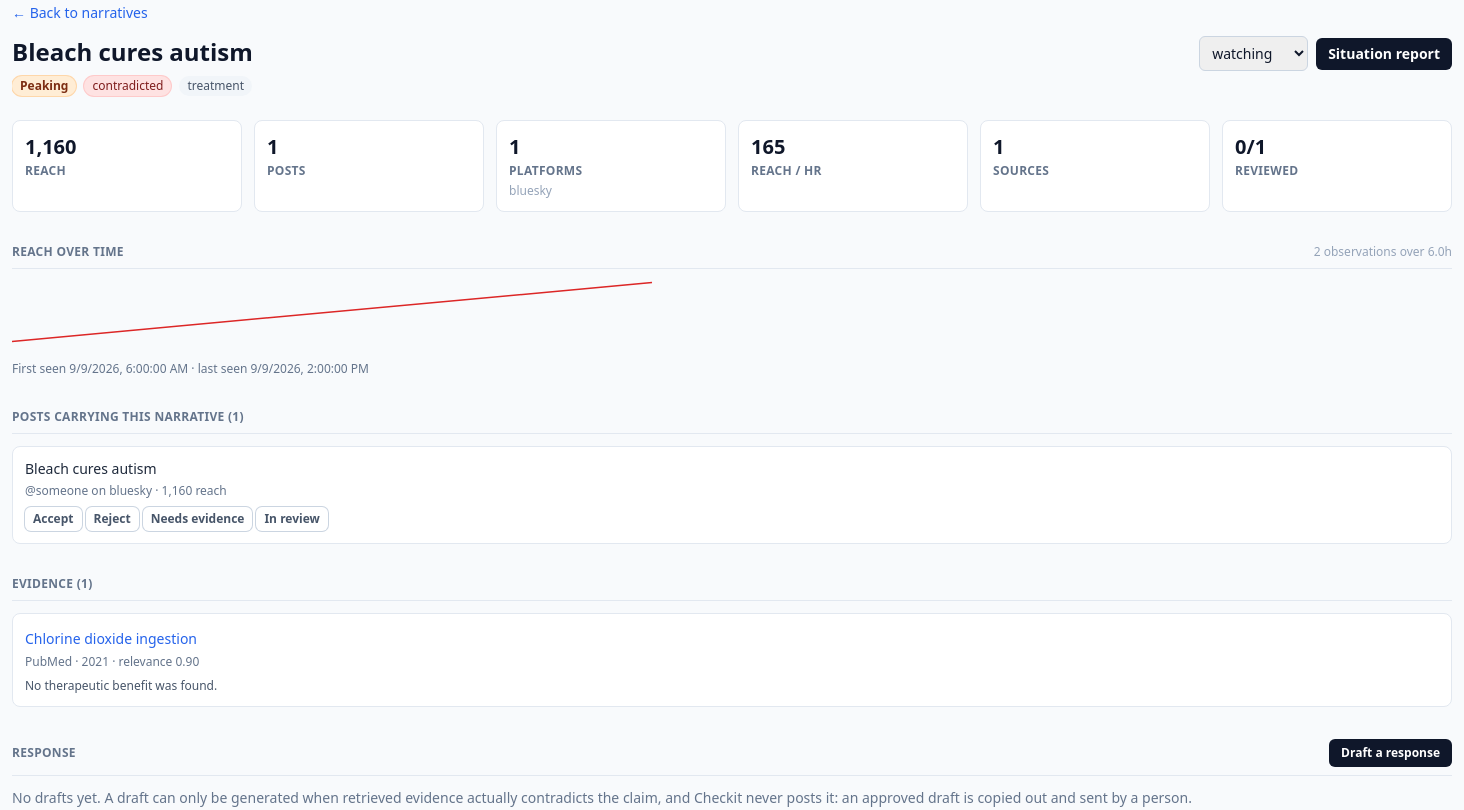
Scenario: NarrativePage › allows copying only after a human approves, and says a person sends it
Step 1. Click the button "Draft a response" → {"x": 1391, "y": 753}, box [1329,739,1452,767]
(page scrolled)
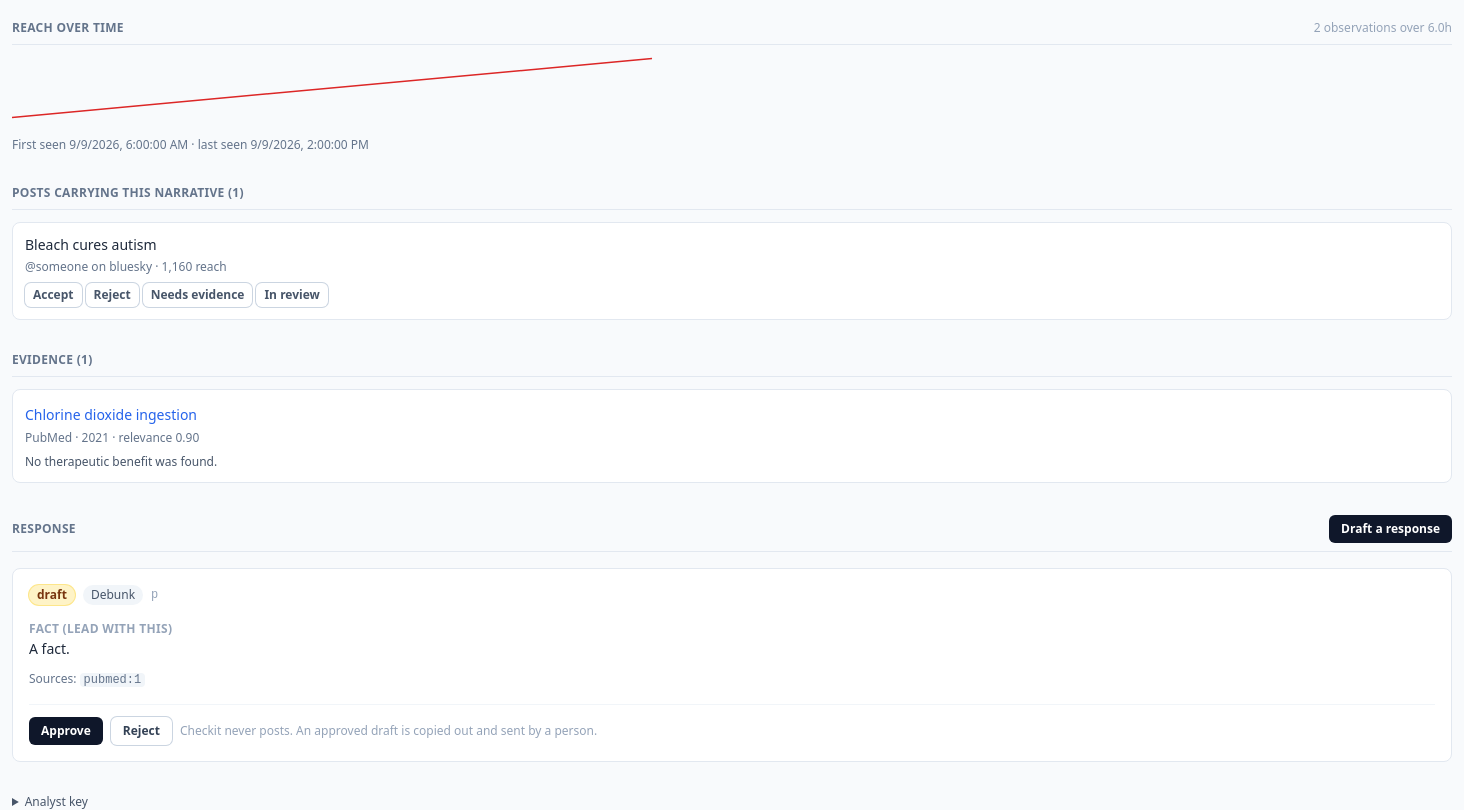
Step 2. Click the button "Approve" → {"x": 66, "y": 731}, box [29,717,103,745]
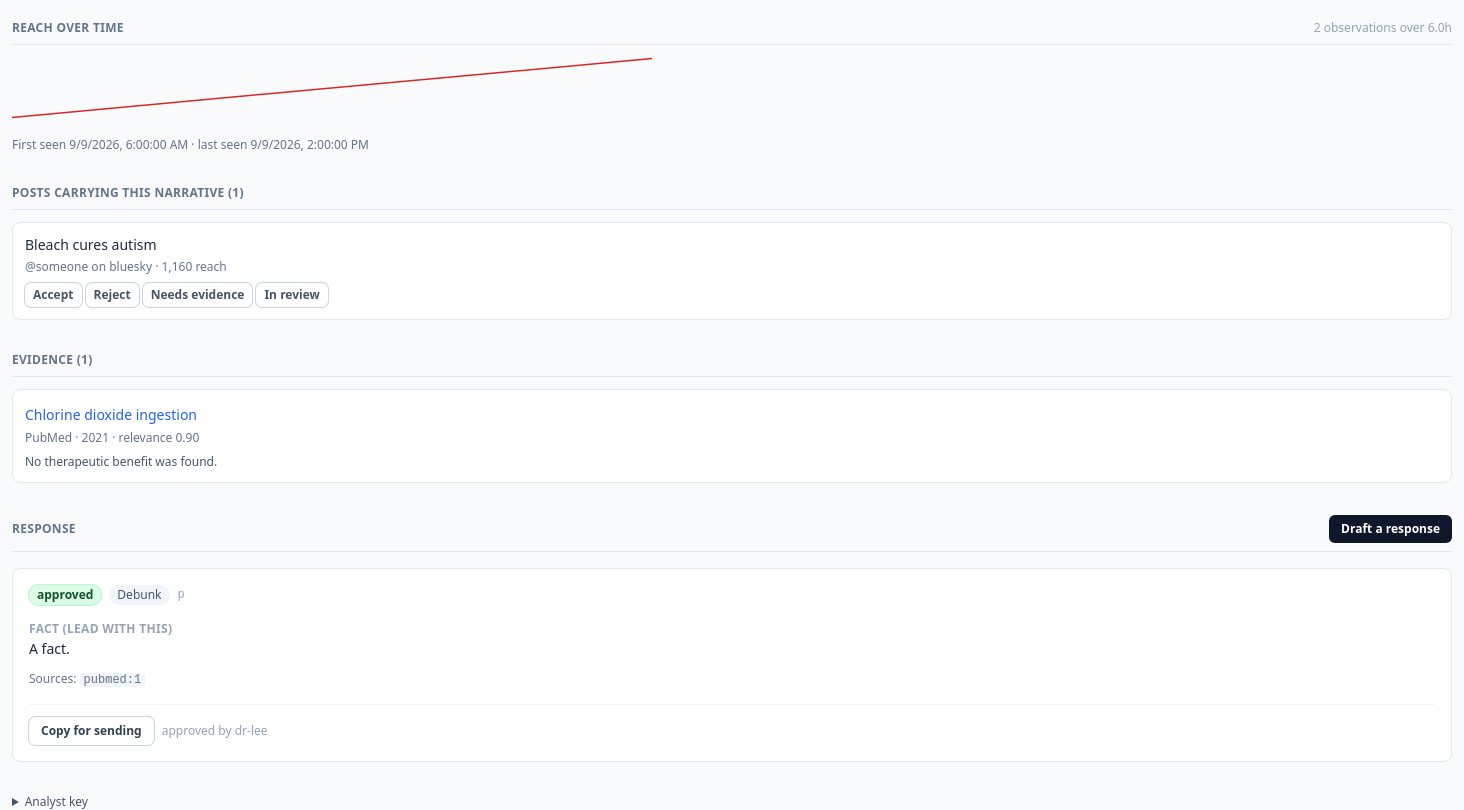
Result: the button "Copy for sending" is shown at [29,717,154,745]
Result: the text "approved by dr-lee" is shown at [162,723,268,739]
